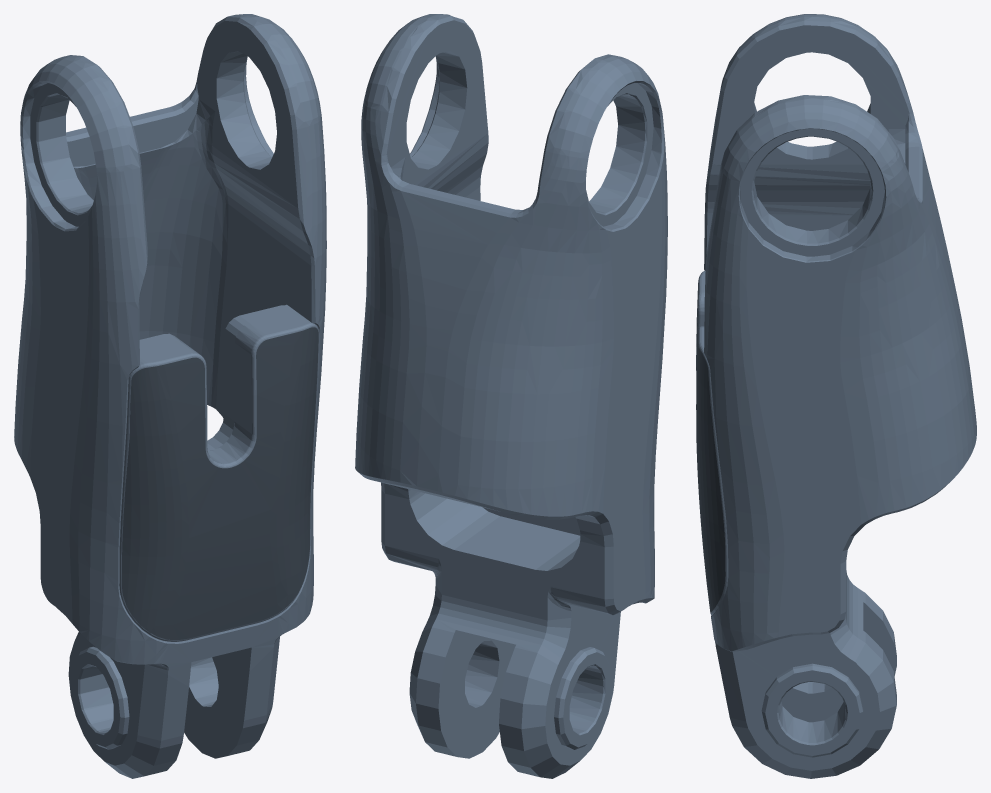
The model's file is pinky_proximal.glb.
3 renders of one model, left to right at view 1: azimuth 30°, elevation 25°; view 2: azimuth 150°, elevation 25°; view 3: azimuth 270°, elevation 25°, orthographic. The views are drawn at different scales.
Visible parts, largest first — view 1: L_little_prox; view 2: L_little_prox; view 3: L_little_prox.
Boxes of the visible parts, x1,y1,x2,y2 form: L_little_prox: (14,14,326,778); L_little_prox: (355,14,667,778); L_little_prox: (696,14,976,778).
Size of the model in its own units: 0.0154 by 0.0455 by 0.0166.
